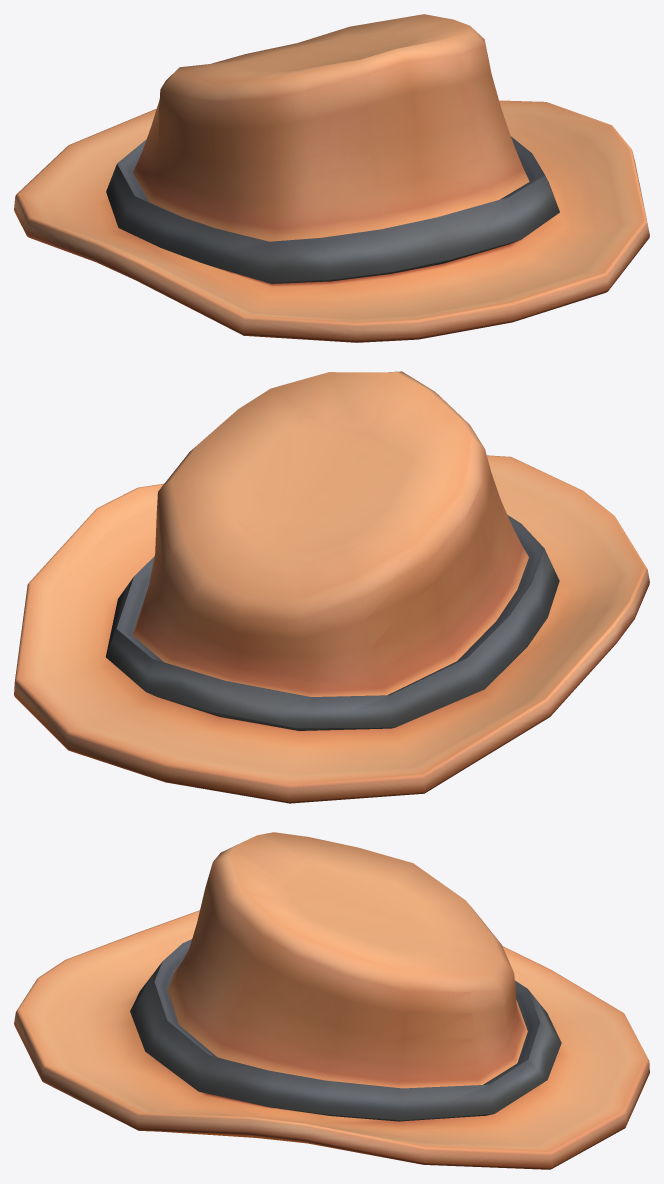
The model's file is Cowboy_Hat.glb.
The picture shows the model from 3 angles, top to bottom: view 1: azimuth 30°, elevation 25°; view 2: azimuth 150°, elevation 25°; view 3: azimuth 270°, elevation 25°; orthographic projection. The views are drawn at different scales.
Parts seen in each view (by area): view 1: Cowboy_Hat; view 2: Cowboy_Hat; view 3: Cowboy_Hat.
Boxes of the visible parts, box(x1,y1,x2,y2) form: Cowboy_Hat: box(14, 14, 649, 342); Cowboy_Hat: box(14, 371, 649, 803); Cowboy_Hat: box(14, 832, 649, 1169).
Size of the model in its own units: 0.6435 by 0.2905 by 0.7414.
1 material, 1 textured.
